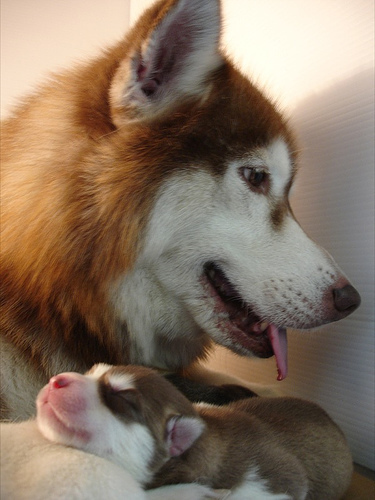dog: (0, 0, 365, 423)
